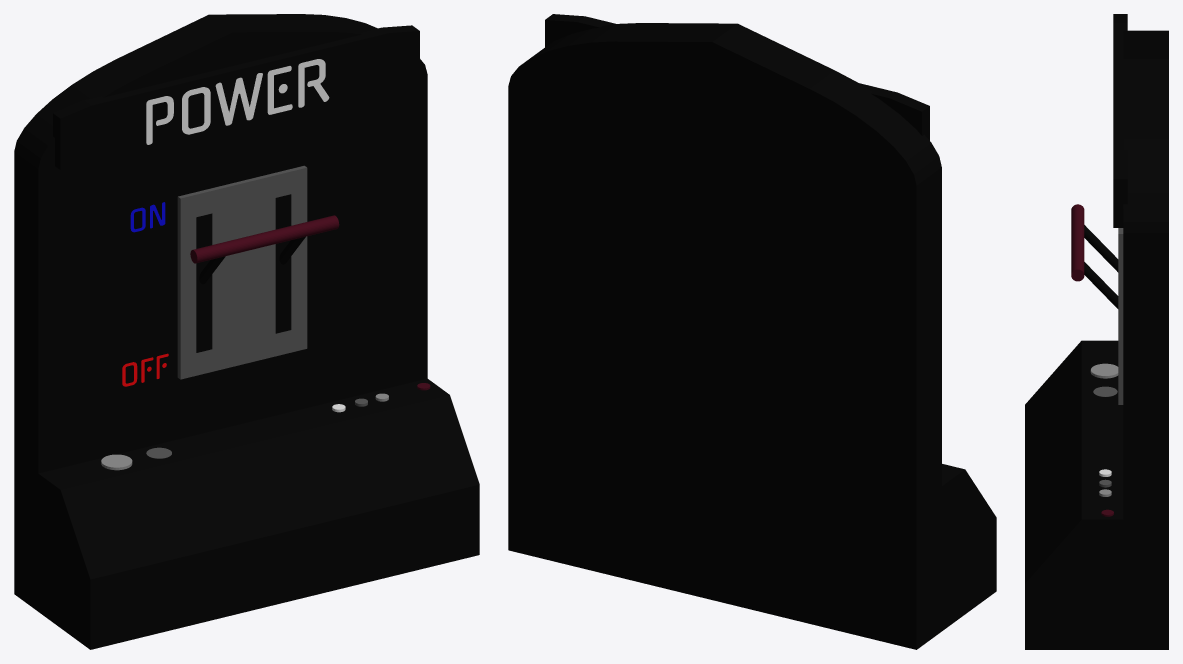
Rendered from Lever.fbx.
The picture shows the model from 3 angles, left to right: view 1: azimuth 30°, elevation 25°; view 2: azimuth 150°, elevation 25°; view 3: azimuth 270°, elevation 25°; orthographic projection. The views are drawn at different scales.
Parts seen in each view (by area): view 1: Cube, Cube.002, Cube.001, Text, Cylinder.008; view 2: Cube, Cube.001; view 3: Cube, Cube.001, Cube.002, Cylinder.008, Cylinder.006, Cylinder.007, Cylinder.001.
Part boxes in pixels (x1,y1,x2,y2): Cube: (14, 14, 479, 649); Cube.002: (177, 165, 307, 379); Cube.001: (53, 25, 419, 169); Text: (146, 59, 329, 144); Cylinder.008: (190, 215, 339, 263); Cube: (508, 23, 996, 649); Cube.001: (545, 14, 929, 140); Cube: (1025, 30, 1168, 649); Cube.001: (1113, 14, 1127, 227); Cube.002: (1118, 228, 1123, 404); Cylinder.008: (1071, 204, 1084, 281); Cylinder.006: (1084, 225, 1118, 272); Cylinder.007: (1084, 262, 1118, 308); Cylinder.001: (1090, 363, 1118, 378).
Bounding box in the file's own units: 614 × 802 × 208.
